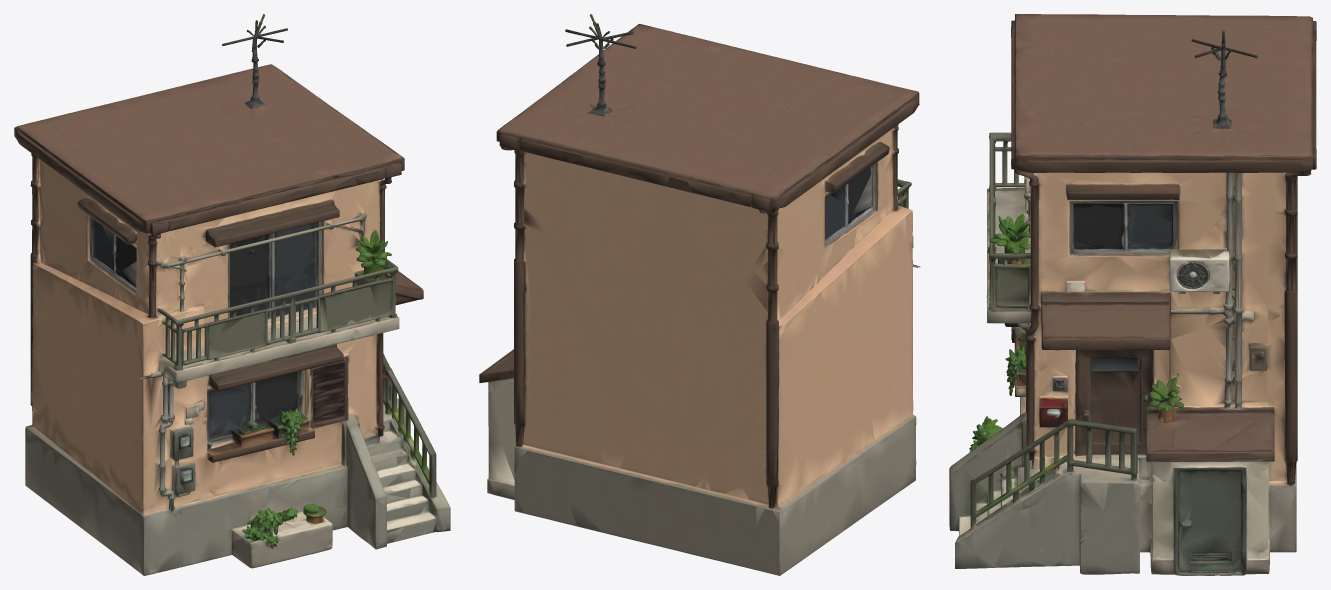
The model's file is building25.glb.
3 renders of one model, left to right at view 1: azimuth 30°, elevation 25°; view 2: azimuth 150°, elevation 25°; view 3: azimuth 270°, elevation 25°, orthographic. The views are drawn at different scales.
Parts seen in each view (by area): view 1: tripo_node_e8145877-03c8-4ffd-8ec1-50a8a4fb43f5; view 2: tripo_node_e8145877-03c8-4ffd-8ec1-50a8a4fb43f5; view 3: tripo_node_e8145877-03c8-4ffd-8ec1-50a8a4fb43f5.
Part boxes in pixels (left/top/right/bottom): tripo_node_e8145877-03c8-4ffd-8ec1-50a8a4fb43f5: left=14, top=14, right=450, bottom=575; tripo_node_e8145877-03c8-4ffd-8ec1-50a8a4fb43f5: left=479, top=14, right=920, bottom=575; tripo_node_e8145877-03c8-4ffd-8ec1-50a8a4fb43f5: left=949, top=14, right=1316, bottom=575.
Size of the model in its own units: 0.6802 by 0.9836 by 0.6503.
Materials: 1 (1 with a texture image).
